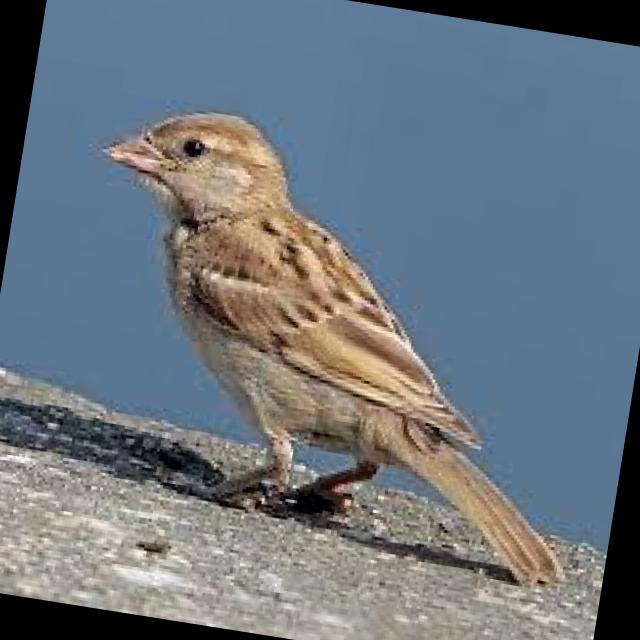bird: (44, 90, 626, 592)
